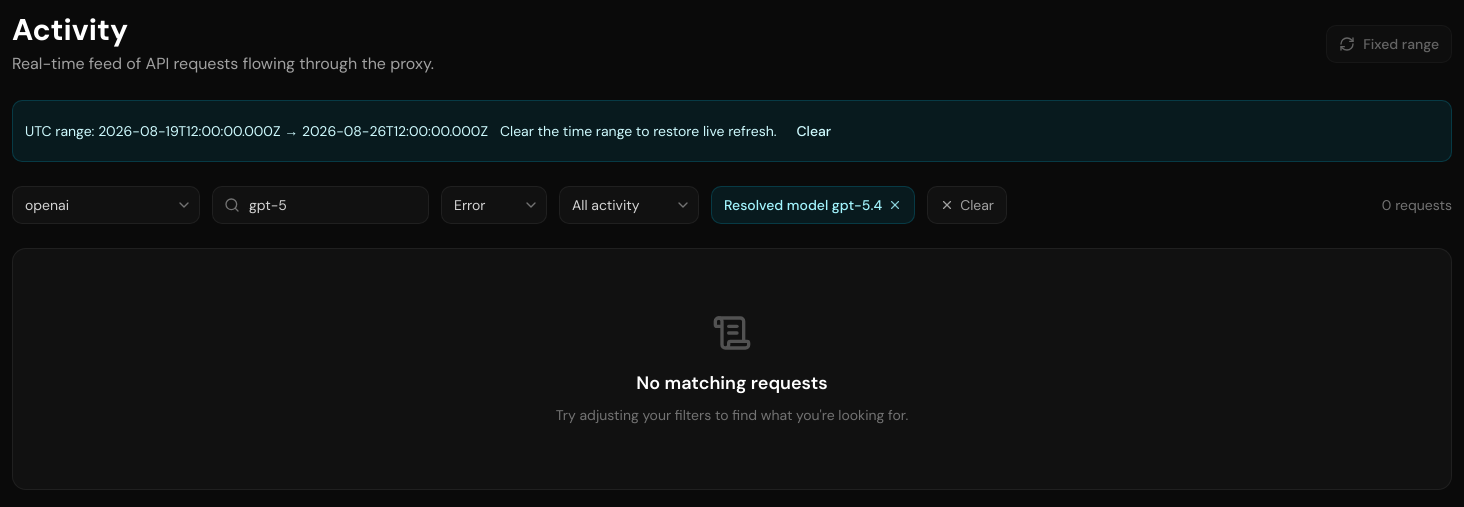
it: Activity URL filter behavior › clears the exact resolved-model chip without changing the manual model input
The width and height of the screenshot is (1464, 507).
Click the button named "Clear resolved model filter": (895, 205) left=888, top=198, right=902, bottom=212
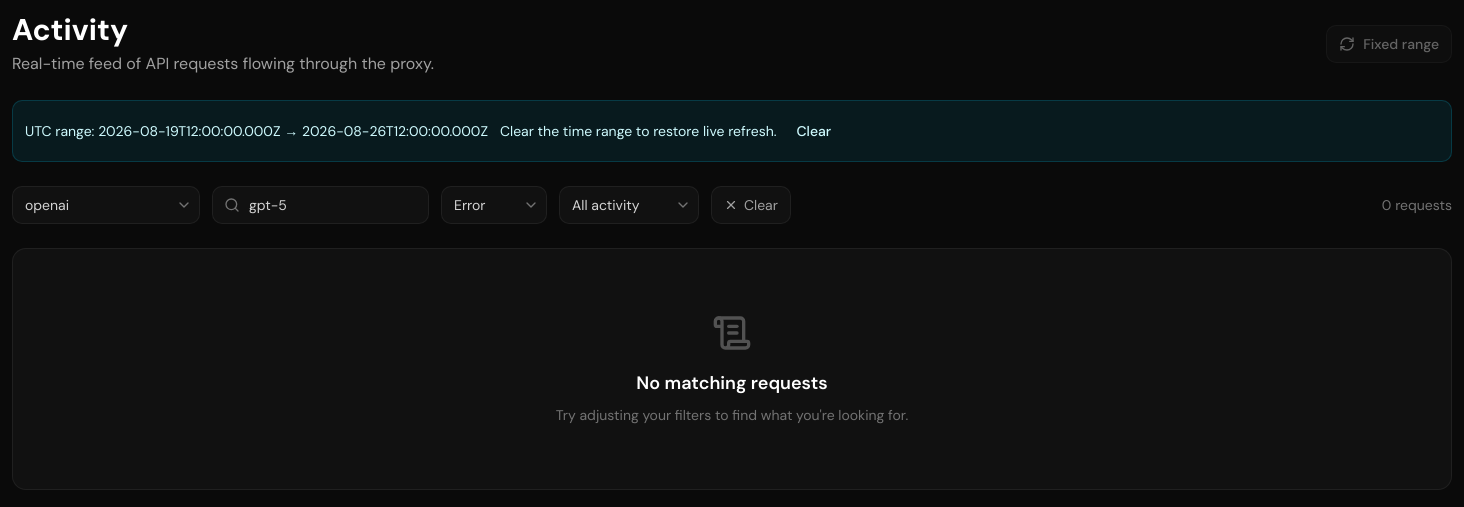
Check: the field showing "gpt-5" is shown, box left=212, top=186, right=429, bottom=224
Check: the text "Resolved model gpt-5.4" is gone
